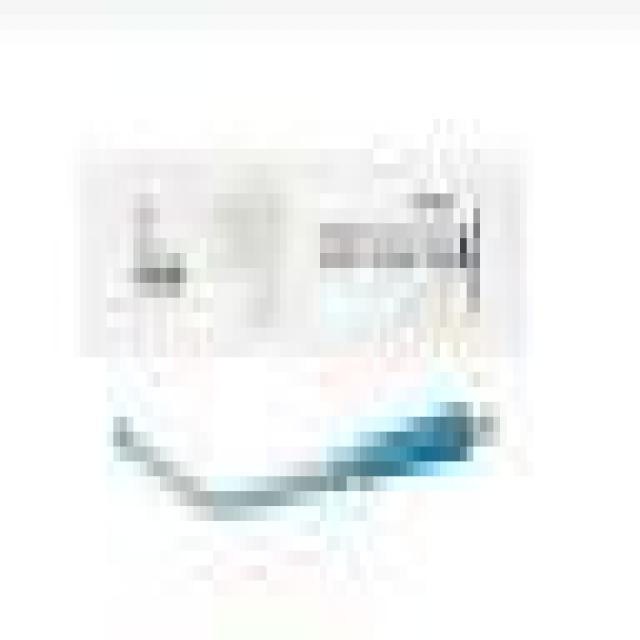Yankauer: (106, 372, 506, 536)
